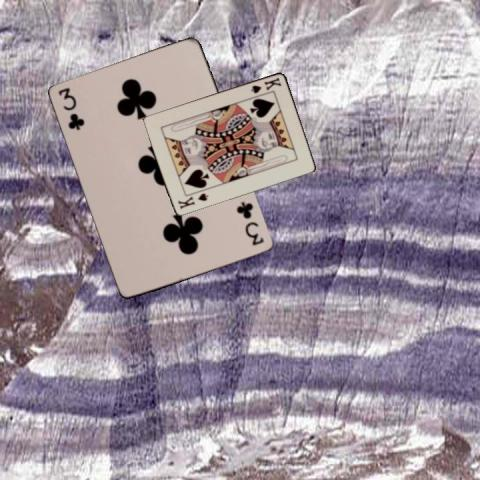3c: (234, 199, 266, 247), (56, 85, 85, 132)
Ks: (248, 74, 283, 95), (175, 190, 210, 210)
